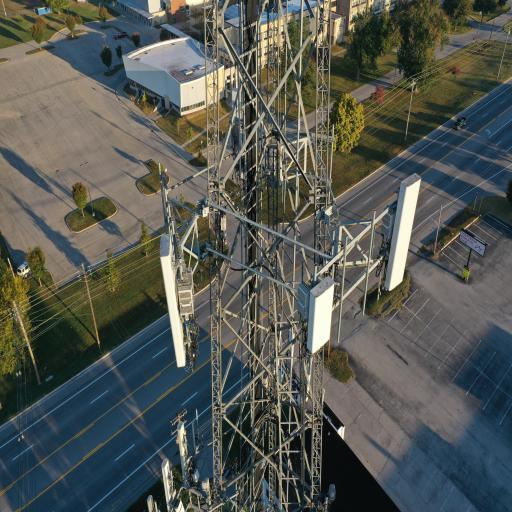supporting_tower: (126, 0, 438, 512)
